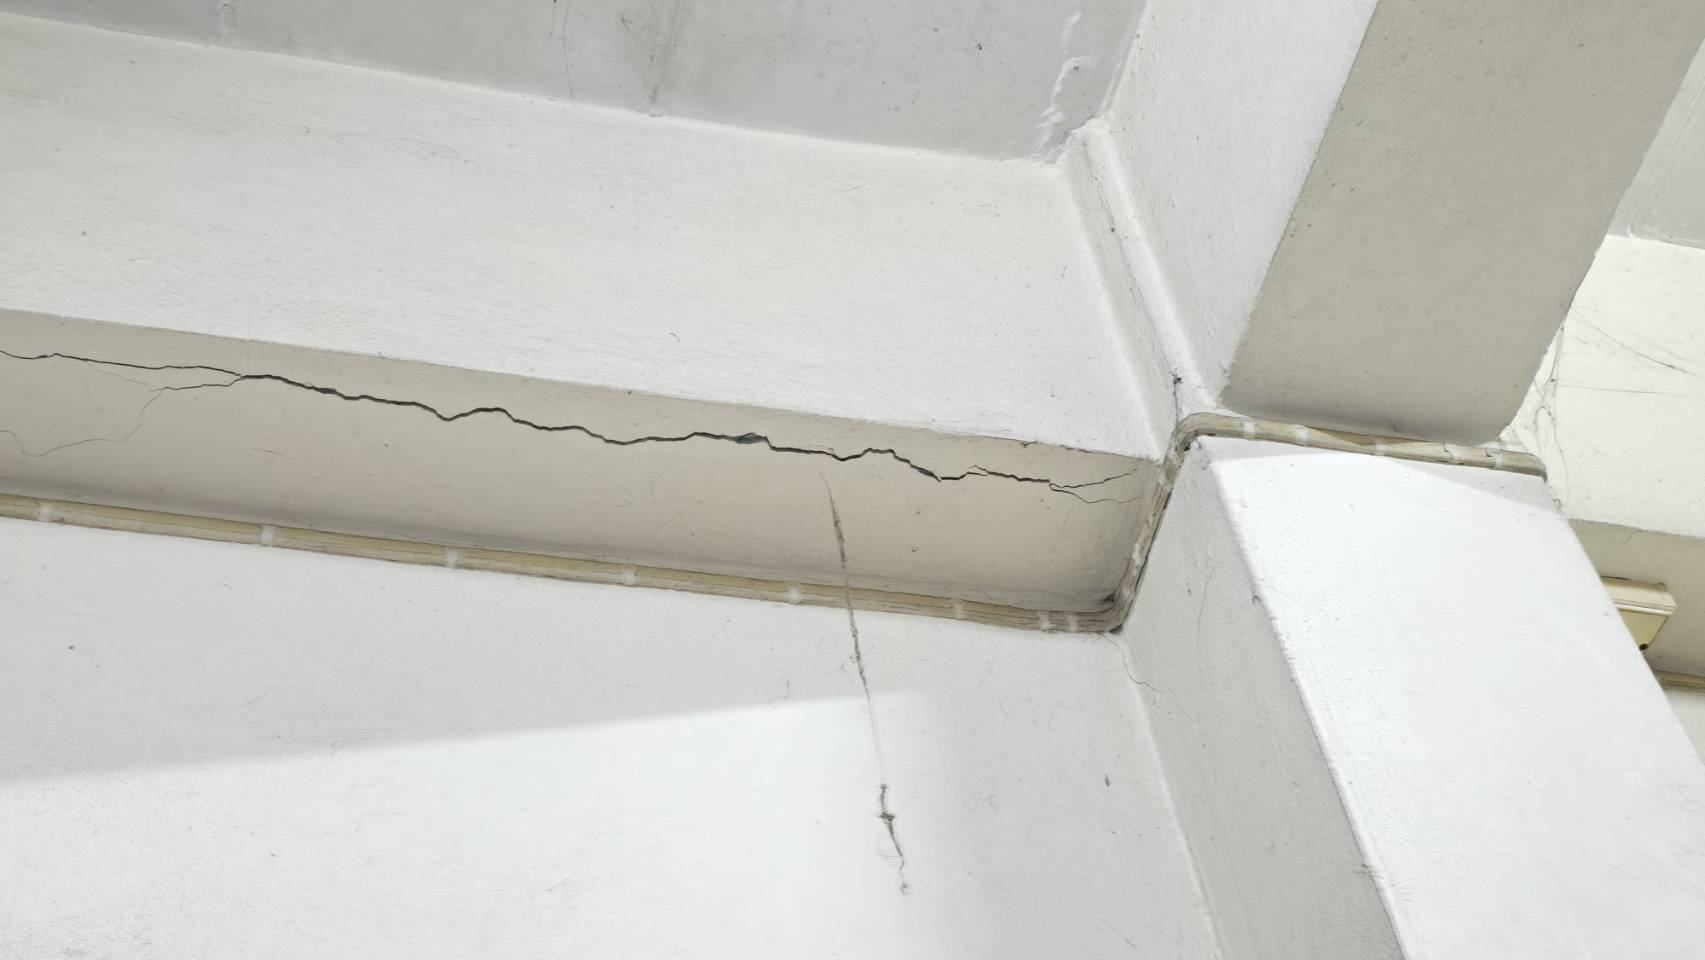Medium: (7, 303, 1150, 515)
